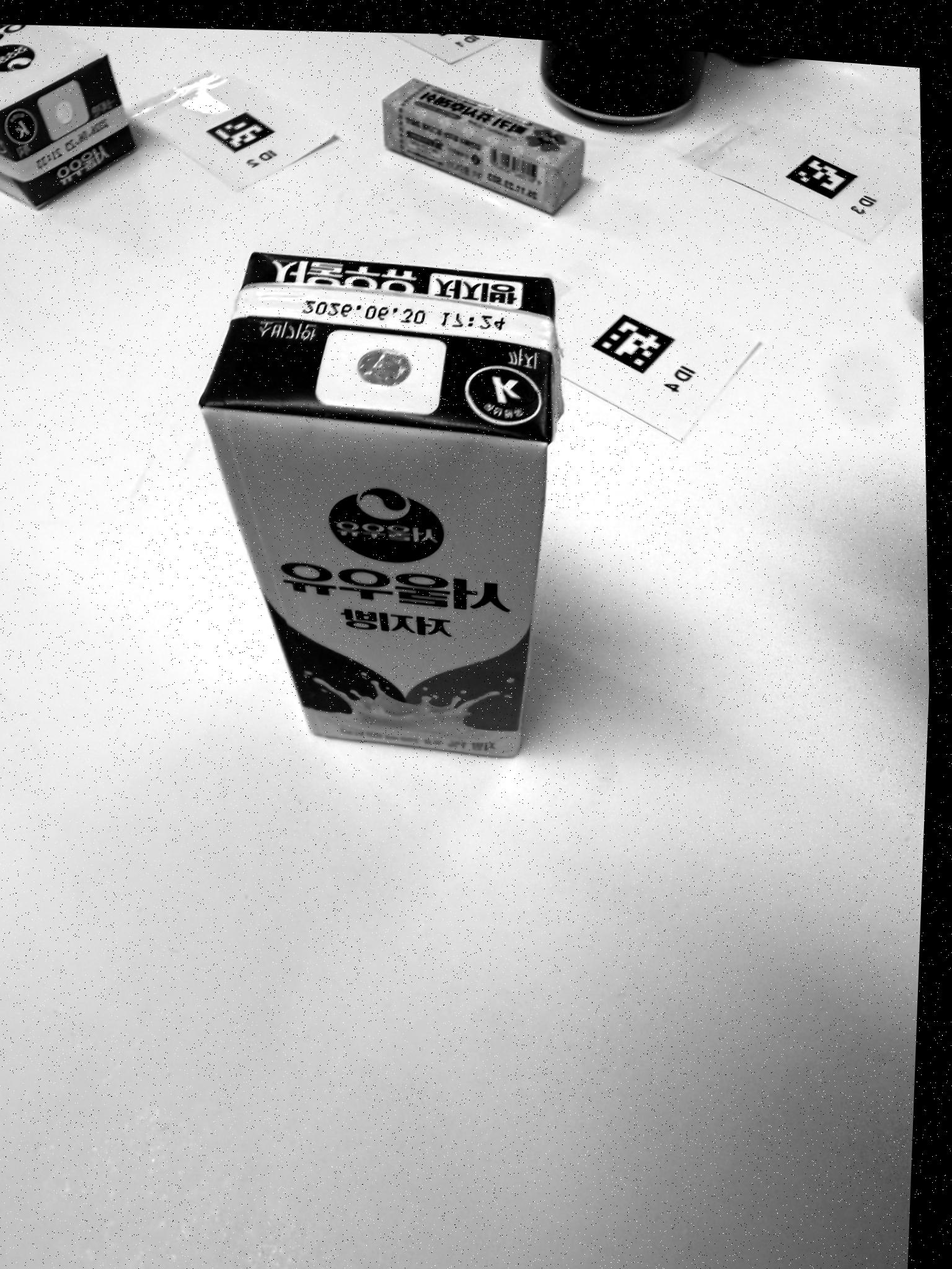milk_blue: (201, 253, 561, 758)
